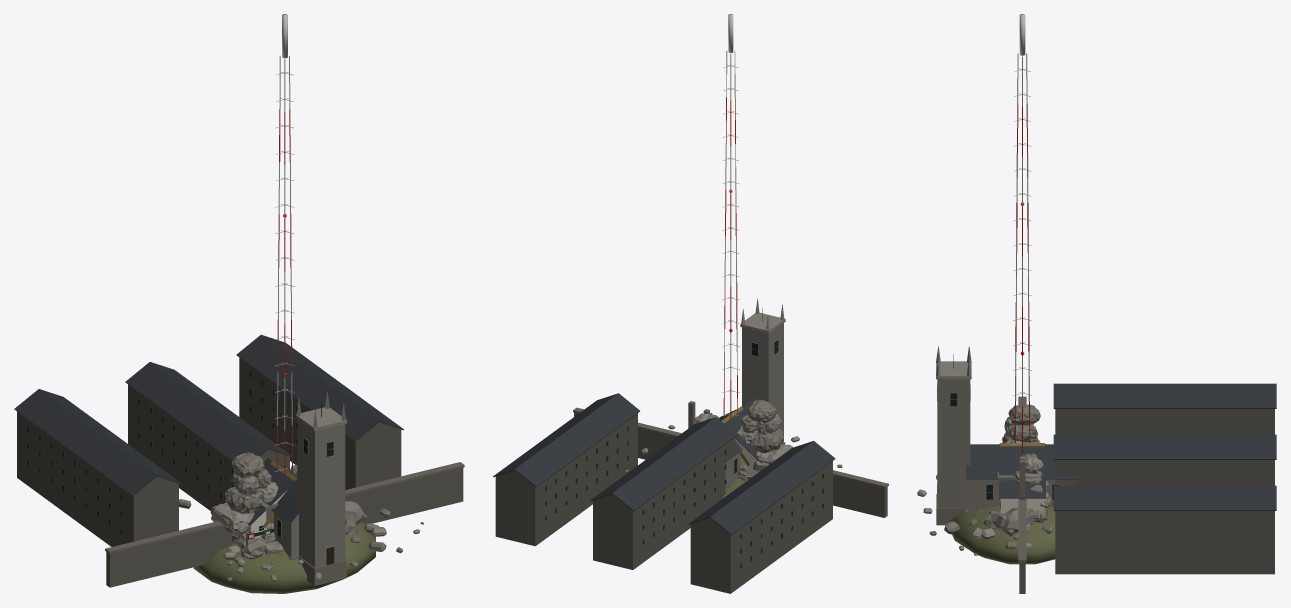
File: props_dartmoor.glb
3 renders of one model, left to right at view 1: azimuth 30°, elevation 25°; view 2: azimuth 150°, elevation 25°; view 3: azimuth 270°, elevation 25°, orthographic. The views are drawn at different scales.
Parts seen in each view (by area): view 1: prison, tor_big, church_uk, mast, inn; view 2: prison, church_uk, tor_big, mast, inn; view 3: prison, church_uk, tor_big, mast, inn.
Boxes of the visible parts, left/top/right/bottom form: prison: left=14, top=334, right=464, bottom=587; tor_big: left=179, top=452, right=423, bottom=593; church_uk: left=229, top=391, right=347, bottom=585; mast: left=274, top=14, right=295, bottom=476; inn: left=246, top=462, right=297, bottom=555; prison: left=493, top=393, right=888, bottom=593; church_uk: left=724, top=298, right=785, bottom=494; tor_big: left=625, top=400, right=842, bottom=498; mast: left=722, top=14, right=739, bottom=420; inn: left=688, top=401, right=773, bottom=477; prison: left=997, top=383, right=1276, bottom=593; church_uk: left=936, top=346, right=1078, bottom=525; tor_big: left=917, top=404, right=1055, bottom=564; mast: left=1012, top=14, right=1033, bottom=511; inn: left=977, top=444, right=1045, bottom=514.
Size of the model in its own units: 70.4 by 107 by 65.48.
